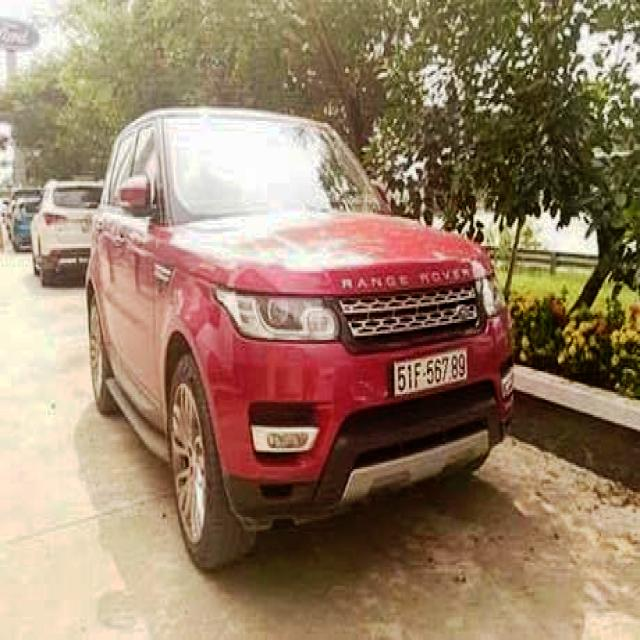license_plate: (395, 349, 469, 396)
